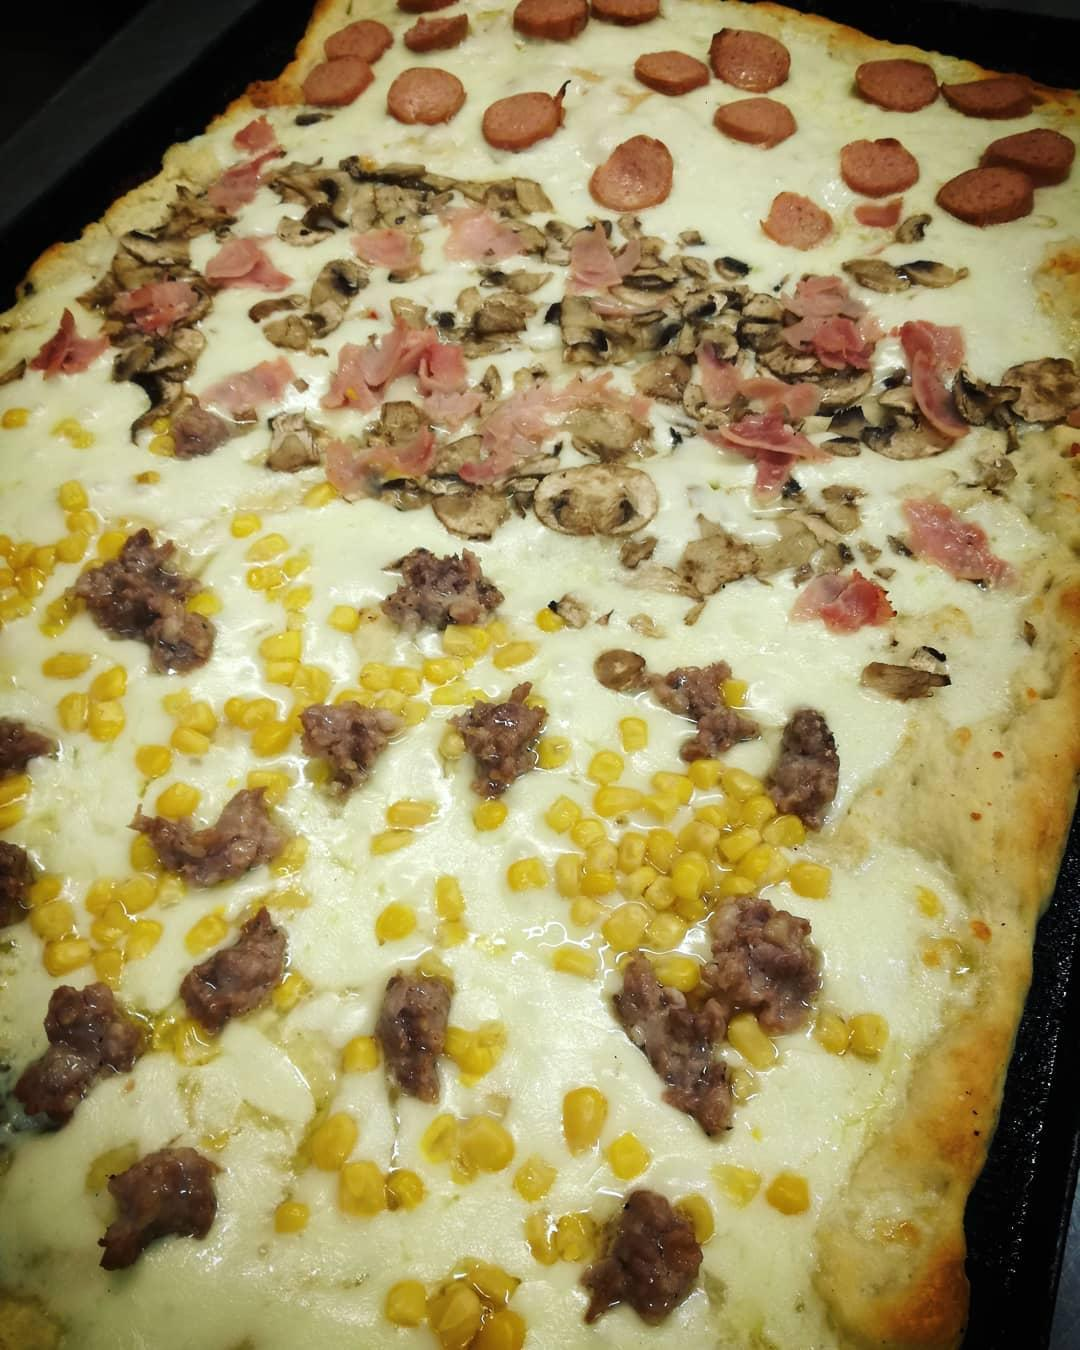Corn: (571, 784, 778, 930), (361, 624, 534, 706), (23, 874, 154, 978), (0, 499, 95, 636), (389, 1257, 522, 1350), (309, 1117, 425, 1211), (239, 629, 311, 743), (425, 1112, 515, 1181), (64, 665, 120, 733), (166, 688, 215, 745)
Ham: (935, 129, 1072, 225), (325, 318, 462, 408), (695, 368, 804, 467), (636, 30, 791, 96), (486, 379, 650, 435), (855, 60, 1028, 112), (302, 18, 389, 112), (908, 316, 963, 438), (588, 133, 673, 209), (210, 119, 276, 216), (796, 280, 870, 361), (480, 91, 561, 148), (839, 138, 920, 192), (207, 234, 279, 293), (715, 96, 800, 144), (390, 67, 466, 121), (763, 192, 830, 245), (573, 237, 635, 291), (515, 0, 588, 40), (403, 13, 469, 53), (122, 284, 192, 322), (588, 0, 662, 26), (395, 0, 462, 14)
Mushroom: (289, 164, 552, 218), (104, 194, 205, 278), (963, 357, 1080, 426), (828, 377, 921, 463), (534, 467, 656, 533), (272, 262, 360, 347), (673, 281, 778, 352), (434, 436, 501, 538), (121, 332, 212, 402)
Pizza: (0, 0, 1080, 1350)
